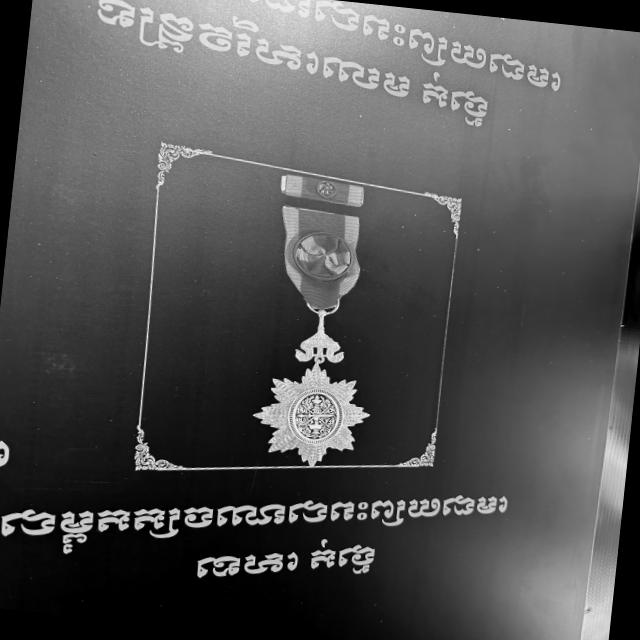1: (193, 542, 392, 588)
Yolov11kh: (0, 483, 524, 554)
